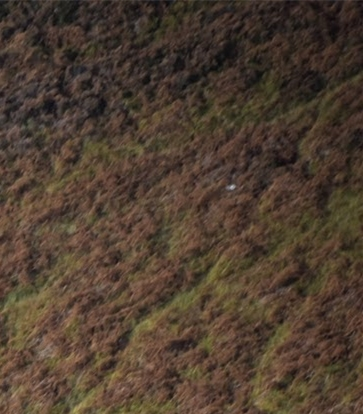white_in_green: (208, 163, 256, 206)
